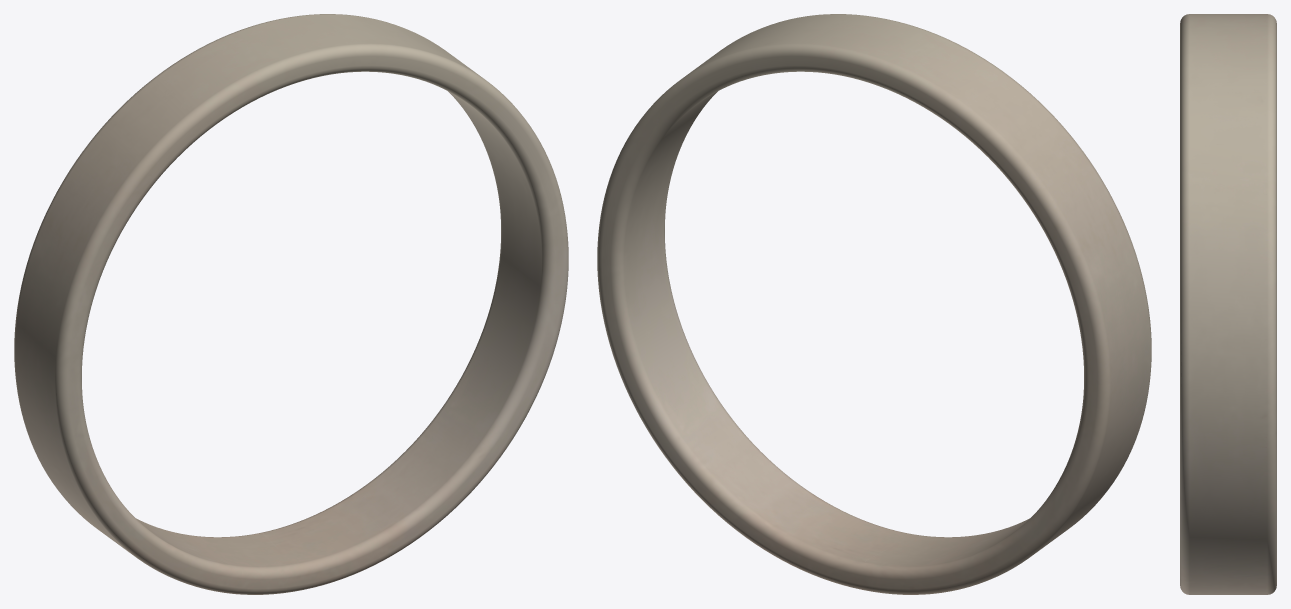
The model's file is SM_Anneau.glb.
The picture shows the model from 3 angles, left to right: view 1: azimuth 30°, elevation 25°; view 2: azimuth 150°, elevation 25°; view 3: azimuth 270°, elevation 25°; orthographic projection.
Size of the model in its own units: 2 by 2 by 0.3333.
Materials: 1 (1 with a texture image).
